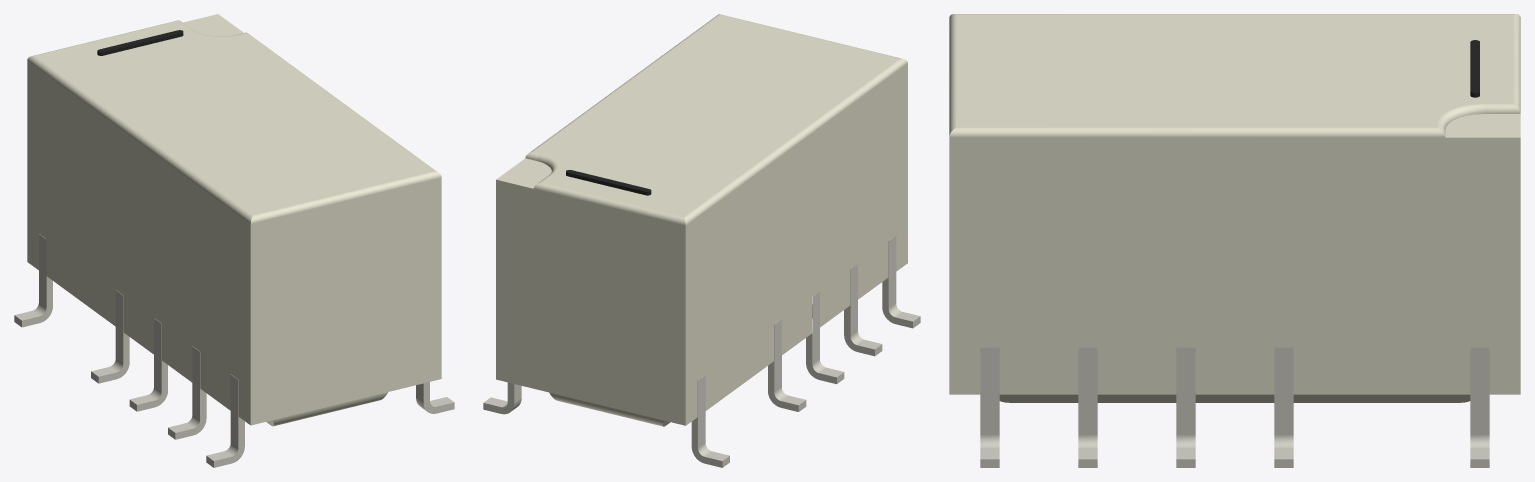
Rendered from kc-relay_dpdt_omron_g6sk-2f.glb.
3 views of the same model, side by side, from view 1: azimuth 30°, elevation 25°; view 2: azimuth 150°, elevation 25°; view 3: azimuth 270°, elevation 25° (orthographic). The views are drawn at different scales.
Visible parts, largest first — view 1: 0.75_0.75_0.6666666666666666_0, 0.6666666666666666_0.6666666666666666_0.5833333333333334_0.8, 0_0_0_0; view 2: 0.75_0.75_0.6666666666666666_0, 0.6666666666666666_0.6666666666666666_0.5833333333333334_0.8, 0_0_0_0; view 3: 0.75_0.75_0.6666666666666666_0, 0.6666666666666666_0.6666666666666666_0.5833333333333334_0.8.
Boxes of the visible parts, x1=… form: 0.75_0.75_0.6666666666666666_0: x1=27, y1=14, x2=441, y2=426; 0.6666666666666666_0.6666666666666666_0.5833333333333334_0.8: x1=14, y1=234, x2=454, y2=467; 0_0_0_0: x1=97, y1=30, x2=183, y2=55; 0.75_0.75_0.6666666666666666_0: x1=496, y1=14, x2=907, y2=426; 0.6666666666666666_0.6666666666666666_0.5833333333333334_0.8: x1=483, y1=235, x2=920, y2=467; 0_0_0_0: x1=566, y1=170, x2=651, y2=195; 0.75_0.75_0.6666666666666666_0: x1=949, y1=14, x2=1520, y2=402; 0.6666666666666666_0.6666666666666666_0.5833333333333334_0.8: x1=980, y1=347, x2=1489, y2=467.
Size of the model in its own units: 0.92 by 0.933 by 1.48.
